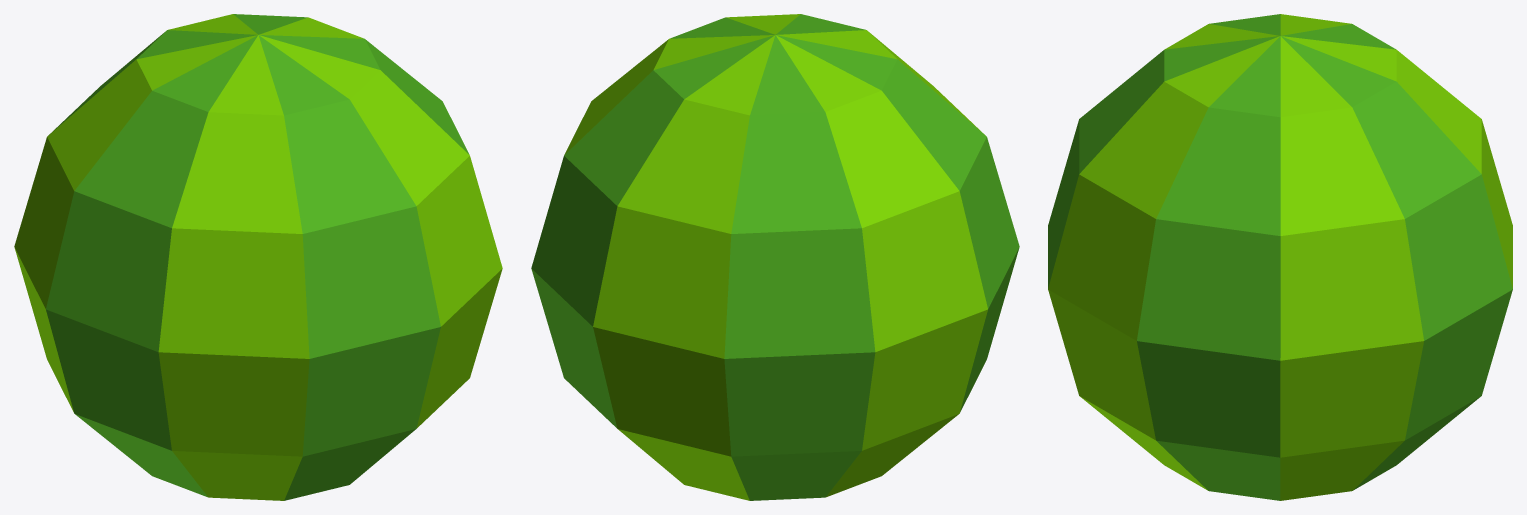
File: watermelon.fbx
The picture shows the model from 3 angles, left to right: view 1: azimuth 30°, elevation 25°; view 2: azimuth 150°, elevation 25°; view 3: azimuth 270°, elevation 25°; orthographic projection.
Parts seen in each view (by area): view 1: watermelon; view 2: watermelon; view 3: watermelon.
Part boxes in pixels (x1=…): watermelon: x1=14, y1=14, x2=502, y2=500; watermelon: x1=531, y1=14, x2=1019, y2=500; watermelon: x1=1048, y1=14, x2=1512, y2=500.
Bounding box in the file's own units: 2 × 2 × 1.9.
